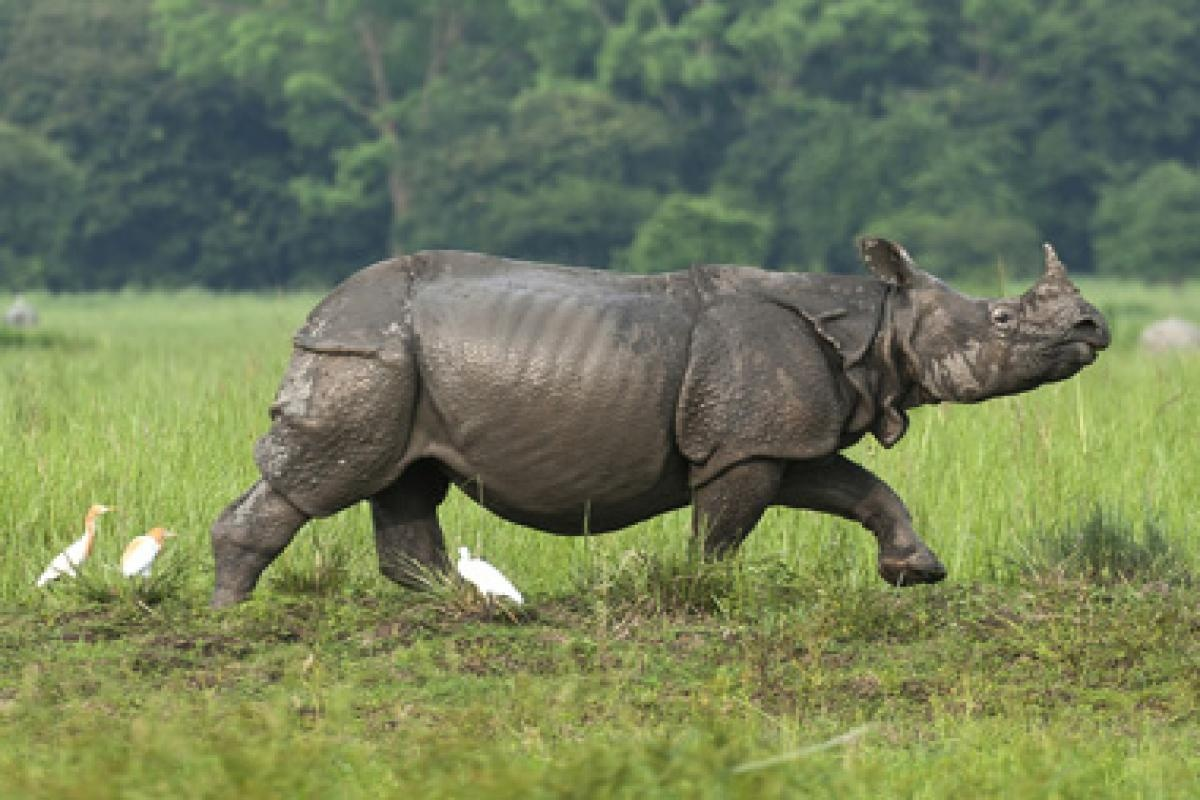rhino: (208, 233, 1110, 603)
